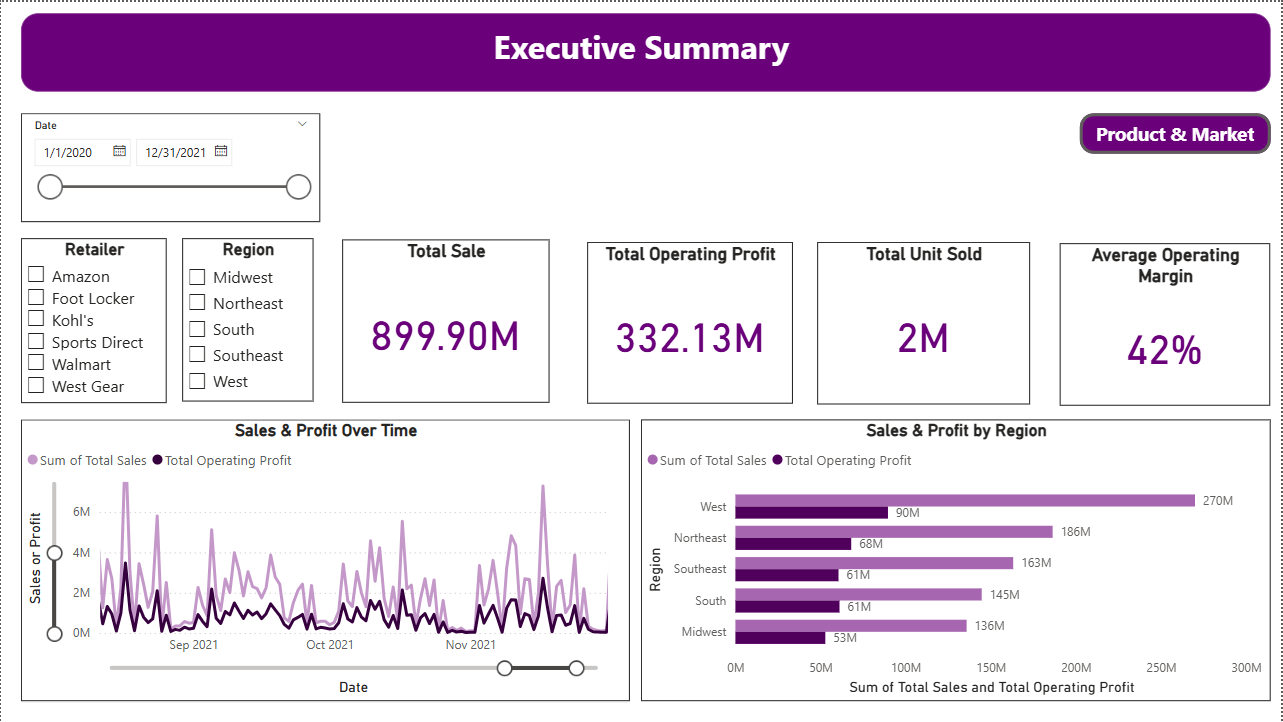

What the dashboard file says about the page in this screenshot:
{"tool":"powerbi","page":{"name":"Executive Summary","canvas":[1280,720],"ordinal":0},"visuals":[{"type":"textbox","box":[19.6,11,1249.7,78.3],"z":0},{"type":"card","title":"Total Sale","fields":{"Values":["Data Sales Adidas.Sale"]},"box":[341.7,238,207.3,163.5],"z":1000},{"type":"card","title":"Total Operating Profit","fields":{"Values":["Data Sales Adidas.Total Operating Profit"]},"box":[586.2,239.6,205.6,161.9],"z":2000},{"type":"card","title":"Total Unit Sold","fields":{"Values":["Data Sales Adidas.Total Units Sold"]},"box":[816.9,239.7,212.8,162.6],"z":3000},{"type":"card","title":"Average Operating Margin","fields":{"Values":["Avg(Data Sales Adidas.Operating Margin)"]},"box":[1059,240.9,210.3,162.6],"z":4000},{"type":"lineChart","title":"Sales  & Profit Over Time","fields":{"Y":["Sum(Data Sales Adidas.Total Sales)","Data Sales Adidas.Total Operating Profit"],"Category":["Data Sales Adidas.Date"]},"box":[19.4,417.8,608.8,281.7],"z":6000},{"type":"clusteredBarChart","title":"Sales & Profit by Region","fields":{"Category":["Data Sales Adidas.Region"],"Y":["Sum(Data Sales Adidas.Total Sales)","Data Sales Adidas.Total Operating Profit"]},"box":[639.6,417.8,629.9,281.7],"z":7000},{"type":"listSlicer","fields":{"Values":["Data Sales Adidas.Region"]},"box":[181.4,236.4,131.2,163.5],"z":8000},{"type":"listSlicer","fields":{"Values":["Data Sales Adidas.Retailer"]},"box":[19.4,236.4,145.7,165.2],"z":9000},{"type":"actionButton","box":[1078.4,111.7,191.1,40.5],"z":10000},{"type":"slicer","fields":{"Values":["Data Sales Adidas.Date"]},"box":[19.4,111.7,299.6,108.5],"z":11000}]}

Visuals, with their boxes in screenshot pixels (x1, y1, x2, y2), scaled from the page's 1280x720 canvas onto the 1283x722 screenshot:
textbox: [x1=20, y1=11, x2=1272, y2=90]
"Total Sale" card: [x1=343, y1=239, x2=550, y2=403]
"Total Operating Profit" card: [x1=588, y1=240, x2=794, y2=403]
"Total Unit Sold" card: [x1=819, y1=240, x2=1032, y2=403]
"Average Operating Margin" card: [x1=1061, y1=242, x2=1272, y2=405]
"Sales  & Profit Over Time" lineChart: [x1=19, y1=419, x2=630, y2=701]
"Sales & Profit by Region" clusteredBarChart: [x1=641, y1=419, x2=1272, y2=701]
listSlicer - Data Sales Adidas.Region: [x1=182, y1=237, x2=313, y2=401]
listSlicer - Data Sales Adidas.Retailer: [x1=19, y1=237, x2=165, y2=403]
actionButton: [x1=1081, y1=112, x2=1272, y2=153]
slicer - Data Sales Adidas.Date: [x1=19, y1=112, x2=320, y2=221]
